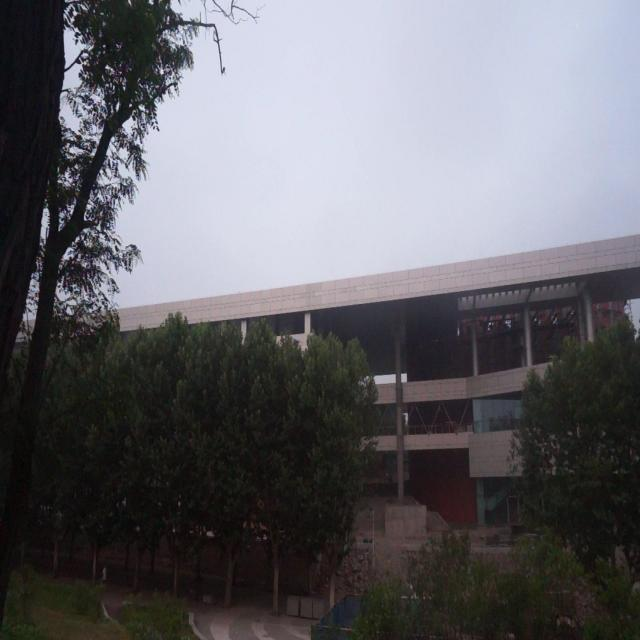UAV: (291, 335, 302, 346)
